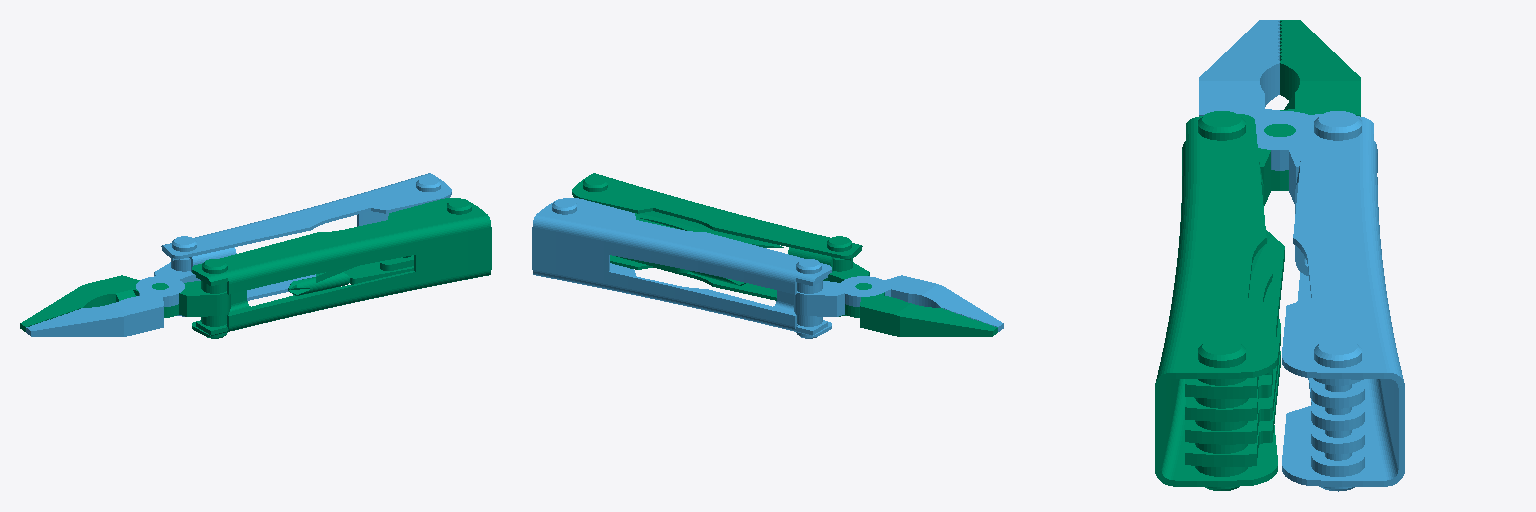
--- What the picture shows (computed from the rendered views, not written in the file) ---
3 views of the same robot in one strip: view 1: azimuth 30°, elevation 25°; view 2: azimuth 150°, elevation 25°; view 3: azimuth 270°, elevation 25° (orthographic).
Robot: partnet_b4ba93fc-5ad1-45ee-9612-3ba4218d1fca — 3 links, 2 joints (1 revolute, 1 fixed); root link base; default pose: every joint at zero.
Visible links, largest first — view 1: link_1, link_0; view 2: link_0, link_1; view 3: link_1, link_0.
Boxes of the visible links, x1,y1,x2,y2 form: link_1: [20, 198, 491, 338]; link_0: [26, 173, 451, 336]; link_0: [532, 198, 1003, 338]; link_1: [572, 173, 997, 336]; link_1: [1155, 20, 1360, 490]; link_0: [1199, 20, 1404, 491].
Size in the robot's own frame: 1.65 by 0.4323 by 0.2603 metres.
86 mesh visuals loaded from 86 distinct referenced files (86 OBJ).

URDF robot description (partnet_b4ba93fc-5ad1-45ee-9612-3ba4218d1fca):
<?xml version="1.0" ?>
<robot name="partnet_b4ba93fc-5ad1-45ee-9612-3ba4218d1fca">
	<link name="base"/>
	<link name="link_0">
		<visual name="leg-1">
			<origin xyz="0 0 -0.5441908323764797"/>
			<geometry>
				<mesh filename="textured_objs/original-3.obj"/>
			</geometry>
		</visual>
		<visual name="leg-1">
			<origin xyz="0 0 -0.5441908323764797"/>
			<geometry>
				<mesh filename="textured_objs/original-41.obj"/>
			</geometry>
		</visual>
		<visual name="leg-1">
			<origin xyz="0 0 -0.5441908323764797"/>
			<geometry>
				<mesh filename="textured_objs/original-46.obj"/>
			</geometry>
		</visual>
		<visual name="leg-1">
			<origin xyz="0 0 -0.5441908323764797"/>
			<geometry>
				<mesh filename="textured_objs/original-13.obj"/>
			</geometry>
		</visual>
		<visual name="leg-1">
			<origin xyz="0 0 -0.5441908323764797"/>
			<geometry>
				<mesh filename="textured_objs/original-15.obj"/>
			</geometry>
		</visual>
		<visual name="leg-1">
			<origin xyz="0 0 -0.5441908323764797"/>
			<geometry>
				<mesh filename="textured_objs/original-10.obj"/>
			</geometry>
		</visual>
		<visual name="leg-1">
			<origin xyz="0 0 -0.5441908323764797"/>
			<geometry>
				<mesh filename="textured_objs/original-48.obj"/>
			</geometry>
		</visual>
		<visual name="leg-1">
			<origin xyz="0 0 -0.5441908323764797"/>
			<geometry>
				<mesh filename="textured_objs/original-20.obj"/>
			</geometry>
		</visual>
		<visual name="leg-1">
			<origin xyz="0 0 -0.5441908323764797"/>
			<geometry>
				<mesh filename="textured_objs/original-29.obj"/>
			</geometry>
		</visual>
		<visual name="leg-1">
			<origin xyz="0 0 -0.5441908323764797"/>
			<geometry>
				<mesh filename="textured_objs/original-23.obj"/>
			</geometry>
		</visual>
		<visual name="leg-1">
			<origin xyz="0 0 -0.5441908323764797"/>
			<geometry>
				<mesh filename="textured_objs/original-32.obj"/>
			</geometry>
		</visual>
		<visual name="leg-1">
			<origin xyz="0 0 -0.5441908323764797"/>
			<geometry>
				<mesh filename="textured_objs/original-26.obj"/>
			</geometry>
		</visual>
		<visual name="leg-1">
			<origin xyz="0 0 -0.5441908323764797"/>
			<geometry>
				<mesh filename="textured_objs/original-35.obj"/>
			</geometry>
		</visual>
		<visual name="leg-1">
			<origin xyz="0 0 -0.5441908323764797"/>
			<geometry>
				<mesh filename="textured_objs/original-37.obj"/>
			</geometry>
		</visual>
		<visual name="leg-1">
			<origin xyz="0 0 -0.5441908323764797"/>
			<geometry>
				<mesh filename="textured_objs/original-33.obj"/>
			</geometry>
		</visual>
		<visual name="leg-1">
			<origin xyz="0 0 -0.5441908323764797"/>
			<geometry>
				<mesh filename="textured_objs/original-27.obj"/>
			</geometry>
		</visual>
		<visual name="leg-1">
			<origin xyz="0 0 -0.5441908323764797"/>
			<geometry>
				<mesh filename="textured_objs/original-5.obj"/>
			</geometry>
		</visual>
		<visual name="leg-1">
			<origin xyz="0 0 -0.5441908323764797"/>
			<geometry>
				<mesh filename="textured_objs/original-36.obj"/>
			</geometry>
		</visual>
		<visual name="leg-1">
			<origin xyz="0 0 -0.5441908323764797"/>
			<geometry>
				<mesh filename="textured_objs/original-30.obj"/>
			</geometry>
		</visual>
		<visual name="leg-1">
			<origin xyz="0 0 -0.5441908323764797"/>
			<geometry>
				<mesh filename="textured_objs/original-24.obj"/>
			</geometry>
		</visual>
		<visual name="leg-1">
			<origin xyz="0 0 -0.5441908323764797"/>
			<geometry>
				<mesh filename="textured_objs/original-21.obj"/>
			</geometry>
		</visual>
		<visual name="leg-1">
			<origin xyz="0 0 -0.5441908323764797"/>
			<geometry>
				<mesh filename="textured_objs/original-4.obj"/>
			</geometry>
		</visual>
		<visual name="leg-1">
			<origin xyz="0 0 -0.5441908323764797"/>
			<geometry>
				<mesh filename="textured_objs/original-7.obj"/>
			</geometry>
		</visual>
		<visual name="leg-1">
			<origin xyz="0 0 -0.5441908323764797"/>
			<geometry>
				<mesh filename="textured_objs/original-12.obj"/>
			</geometry>
		</visual>
		<visual name="leg-1">
			<origin xyz="0 0 -0.5441908323764797"/>
			<geometry>
				<mesh filename="textured_objs/original-17.obj"/>
			</geometry>
		</visual>
		<visual name="leg-1">
			<origin xyz="0 0 -0.5441908323764797"/>
			<geometry>
				<mesh filename="textured_objs/original-9.obj"/>
			</geometry>
		</visual>
		<visual name="leg-1">
			<origin xyz="0 0 -0.5441908323764797"/>
			<geometry>
				<mesh filename="textured_objs/original-44.obj"/>
			</geometry>
		</visual>
		<visual name="leg-1">
			<origin xyz="0 0 -0.5441908323764797"/>
			<geometry>
				<mesh filename="textured_objs/original-43.obj"/>
			</geometry>
		</visual>
		<visual name="leg-1">
			<origin xyz="0 0 -0.5441908323764797"/>
			<geometry>
				<mesh filename="textured_objs/original-6.obj"/>
			</geometry>
		</visual>
		<visual name="leg-1">
			<origin xyz="0 0 -0.5441908323764797"/>
			<geometry>
				<mesh filename="textured_objs/original-16.obj"/>
			</geometry>
		</visual>
		<visual name="leg-1">
			<origin xyz="0 0 -0.5441908323764797"/>
			<geometry>
				<mesh filename="textured_objs/original-47.obj"/>
			</geometry>
		</visual>
		<collision>
			<origin xyz="0 0 -0.5441908323764797"/>
			<geometry>
				<mesh filename="textured_objs/original-3.obj"/>
			</geometry>
		</collision>
		<collision>
			<origin xyz="0 0 -0.5441908323764797"/>
			<geometry>
				<mesh filename="textured_objs/original-41.obj"/>
			</geometry>
		</collision>
		<collision>
			<origin xyz="0 0 -0.5441908323764797"/>
			<geometry>
				<mesh filename="textured_objs/original-46.obj"/>
			</geometry>
		</collision>
		<collision>
			<origin xyz="0 0 -0.5441908323764797"/>
			<geometry>
				<mesh filename="textured_objs/original-13.obj"/>
			</geometry>
		</collision>
		<collision>
			<origin xyz="0 0 -0.5441908323764797"/>
			<geometry>
				<mesh filename="textured_objs/original-15.obj"/>
			</geometry>
		</collision>
		<collision>
			<origin xyz="0 0 -0.5441908323764797"/>
			<geometry>
				<mesh filename="textured_objs/original-10.obj"/>
			</geometry>
		</collision>
		<collision>
			<origin xyz="0 0 -0.5441908323764797"/>
			<geometry>
				<mesh filename="textured_objs/original-48.obj"/>
			</geometry>
		</collision>
		<collision>
			<origin xyz="0 0 -0.5441908323764797"/>
			<geometry>
				<mesh filename="textured_objs/original-20.obj"/>
			</geometry>
		</collision>
		<collision>
			<origin xyz="0 0 -0.5441908323764797"/>
			<geometry>
				<mesh filename="textured_objs/original-29.obj"/>
			</geometry>
		</collision>
		<collision>
			<origin xyz="0 0 -0.5441908323764797"/>
			<geometry>
				<mesh filename="textured_objs/original-23.obj"/>
			</geometry>
		</collision>
		<collision>
			<origin xyz="0 0 -0.5441908323764797"/>
			<geometry>
				<mesh filename="textured_objs/original-32.obj"/>
			</geometry>
		</collision>
		<collision>
			<origin xyz="0 0 -0.5441908323764797"/>
			<geometry>
				<mesh filename="textured_objs/original-26.obj"/>
			</geometry>
		</collision>
		<collision>
			<origin xyz="0 0 -0.5441908323764797"/>
			<geometry>
				<mesh filename="textured_objs/original-35.obj"/>
			</geometry>
		</collision>
		<collision>
			<origin xyz="0 0 -0.5441908323764797"/>
			<geometry>
				<mesh filename="textured_objs/original-37.obj"/>
			</geometry>
		</collision>
		<collision>
			<origin xyz="0 0 -0.5441908323764797"/>
			<geometry>
				<mesh filename="textured_objs/original-33.obj"/>
			</geometry>
		</collision>
		<collision>
			<origin xyz="0 0 -0.5441908323764797"/>
			<geometry>
				<mesh filename="textured_objs/original-27.obj"/>
			</geometry>
		</collision>
		<collision>
			<origin xyz="0 0 -0.5441908323764797"/>
			<geometry>
				<mesh filename="textured_objs/original-5.obj"/>
			</geometry>
		</collision>
		<collision>
			<origin xyz="0 0 -0.5441908323764797"/>
			<geometry>
				<mesh filename="textured_objs/original-36.obj"/>
			</geometry>
		</collision>
		<collision>
			<origin xyz="0 0 -0.5441908323764797"/>
			<geometry>
				<mesh filename="textured_objs/original-30.obj"/>
			</geometry>
		</collision>
		<collision>
			<origin xyz="0 0 -0.5441908323764797"/>
			<geometry>
				<mesh filename="textured_objs/original-24.obj"/>
			</geometry>
		</collision>
		<collision>
			<origin xyz="0 0 -0.5441908323764797"/>
			<geometry>
				<mesh filename="textured_objs/original-21.obj"/>
			</geometry>
		</collision>
		<collision>
			<origin xyz="0 0 -0.5441908323764797"/>
			<geometry>
				<mesh filename="textured_objs/original-4.obj"/>
			</geometry>
		</collision>
		<collision>
			<origin xyz="0 0 -0.5441908323764797"/>
			<geometry>
				<mesh filename="textured_objs/original-7.obj"/>
			</geometry>
		</collision>
		<collision>
			<origin xyz="0 0 -0.5441908323764797"/>
			<geometry>
				<mesh filename="textured_objs/original-12.obj"/>
			</geometry>
		</collision>
		<collision>
			<origin xyz="0 0 -0.5441908323764797"/>
			<geometry>
				<mesh filename="textured_objs/original-17.obj"/>
			</geometry>
		</collision>
		<collision>
			<origin xyz="0 0 -0.5441908323764797"/>
			<geometry>
				<mesh filename="textured_objs/original-9.obj"/>
			</geometry>
		</collision>
		<collision>
			<origin xyz="0 0 -0.5441908323764797"/>
			<geometry>
				<mesh filename="textured_objs/original-44.obj"/>
			</geometry>
		</collision>
		<collision>
			<origin xyz="0 0 -0.5441908323764797"/>
			<geometry>
				<mesh filename="textured_objs/original-43.obj"/>
			</geometry>
		</collision>
		<collision>
			<origin xyz="0 0 -0.5441908323764797"/>
			<geometry>
				<mesh filename="textured_objs/original-6.obj"/>
			</geometry>
		</collision>
		<collision>
			<origin xyz="0 0 -0.5441908323764797"/>
			<geometry>
				<mesh filename="textured_objs/original-16.obj"/>
			</geometry>
		</collision>
		<collision>
			<origin xyz="0 0 -0.5441908323764797"/>
			<geometry>
				<mesh filename="textured_objs/original-47.obj"/>
			</geometry>
		</collision>
	</link>
	<joint name="joint_0" type="revolute">
		<origin xyz="0 0 0.5441908323764797"/>
		<axis xyz="0 1 0"/>
		<child link="link_0"/>
		<parent link="link_1"/>
		<limit lower="0.0" upper="0.9599310885968813"/>
	</joint>
	<link name="link_1">
		<visual name="base_body-2">
			<origin xyz="0 0 0"/>
			<geometry>
				<mesh filename="textured_objs/original-103.obj"/>
			</geometry>
		</visual>
		<visual name="base_body-2">
			<origin xyz="0 0 0"/>
			<geometry>
				<mesh filename="textured_objs/original-100.obj"/>
			</geometry>
		</visual>
		<visual name="base_body-2">
			<origin xyz="0 0 0"/>
			<geometry>
				<mesh filename="textured_objs/original-119.obj"/>
			</geometry>
		</visual>
		<visual name="base_body-2">
			<origin xyz="0 0 0"/>
			<geometry>
				<mesh filename="textured_objs/original-71.obj"/>
			</geometry>
		</visual>
		<visual name="base_body-2">
			<origin xyz="0 0 0"/>
			<geometry>
				<mesh filename="textured_objs/original-52.obj"/>
			</geometry>
		</visual>
		<visual name="base_body-2">
			<origin xyz="0 0 0"/>
			<geometry>
				<mesh filename="textured_objs/original-83.obj"/>
			</geometry>
		</visual>
		<visual name="base_body-2">
			<origin xyz="0 0 0"/>
			<geometry>
				<mesh filename="textured_objs/original-117.obj"/>
			</geometry>
		</visual>
		<visual name="base_body-2">
			<origin xyz="0 0 0"/>
			<geometry>
				<mesh filename="textured_objs/original-110.obj"/>
			</geometry>
		</visual>
		<visual name="base_body-2">
			<origin xyz="0 0 0"/>
			<geometry>
				<mesh filename="textured_objs/original-107.obj"/>
			</geometry>
		</visual>
		<visual name="base_body-2">
			<origin xyz="0 0 0"/>
			<geometry>
				<mesh filename="textured_objs/original-104.obj"/>
			</geometry>
		</visual>
		<visual name="base_body-2">
			<origin xyz="0 0 0"/>
			<geometry>
				<mesh filename="textured_objs/original-65.obj"/>
			</geometry>
		</visual>
		<visual name="base_body-2">
			<origin xyz="0 0 0"/>
			<geometry>
				<mesh filename="textured_objs/original-112.obj"/>
			</geometry>
		</visual>
		<visual name="base_body-2">
			<origin xyz="0 0 0"/>
			<geometry>
				<mesh filename="textured_objs/original-106.obj"/>
			</geometry>
		</visual>
		<visual name="base_body-2">
			<origin xyz="0 0 0"/>
			<geometry>
				<mesh filename="textured_objs/original-86.obj"/>
			</geometry>
		</visual>
		<visual name="base_body-2">
			<origin xyz="0 0 0"/>
			<geometry>
				<mesh filename="textured_objs/original-61.obj"/>
			</geometry>
		</visual>
		<visual name="base_body-2">
			<origin xyz="0 0 0"/>
			<geometry>
				<mesh filename="textured_objs/original-39.obj"/>
			</geometry>
		</visual>
		<visual name="base_body-2">
			<origin xyz="0 0 0"/>
			<geometry>
				<mesh filename="textured_objs/original-59.obj"/>
			</geometry>
		</visual>
		<visual name="base_body-2">
			<origin xyz="0 0 0"/>
			<geometry>
				<mesh filename="textured_objs/original-77.obj"/>
			</geometry>
		</visual>
		<visual name="base_body-2">
			<origin xyz="0 0 0"/>
			<geometry>
				<mesh filename="textured_objs/original-114.obj"/>
			</geometry>
		</visual>
		<visual name="base_body-2">
			<origin xyz="0 0 0"/>
			<geometry>
				<mesh filename="textured_objs/original-54.obj"/>
			</geometry>
		</visual>
		<visual name="base_body-2">
			<origin xyz="0 0 0"/>
			<geometry>
				<mesh filename="textured_objs/original-87.obj"/>
			</geometry>
		</visual>
		<visual name="base_body-2">
			<origin xyz="0 0 0"/>
			<geometry>
				<mesh filename="textured_objs/original-51.obj"/>
			</geometry>
		</visual>
		<visual name="base_body-2">
			<origin xyz="0 0 0"/>
			<geometry>
				<mesh filename="textured_objs/original-55.obj"/>
			</geometry>
		</visual>
		<visual name="base_body-2">
			<origin xyz="0 0 0"/>
			<geometry>
				<mesh filename="textured_objs/original-50.obj"/>
			</geometry>
		</visual>
		<visual name="base_body-2">
			<origin xyz="0 0 0"/>
			<geometry>
				<mesh filename="textured_objs/original-111.obj"/>
			</geometry>
		</visual>
		<visual name="base_body-2">
			<origin xyz="0 0 0"/>
			<geometry>
				<mesh filename="textured_objs/original-76.obj"/>
			</geometry>
		</visual>
		<visual name="base_body-2">
			<origin xyz="0 0 0"/>
			<geometry>
				<mesh filename="textured_objs/original-108.obj"/>
			</geometry>
		</visual>
		<visual name="base_body-2">
			<origin xyz="0 0 0"/>
			<geometry>
				<mesh filename="textured_objs/original-72.obj"/>
			</geometry>
		</visual>
		<visual name="base_body-2">
			<origin xyz="0 0 0"/>
			<geometry>
				<mesh filename="textured_objs/original-62.obj"/>
			</geometry>
		</visual>
		<visual name="base_body-2">
			<origin xyz="0 0 0"/>
			<geometry>
				<mesh filename="textured_objs/original-75.obj"/>
			</geometry>
		</visual>
		<visual name="base_body-2">
			<origin xyz="0 0 0"/>
			<geometry>
				<mesh filename="textured_objs/original-66.obj"/>
			</geometry>
		</visual>
		<visual name="base_body-2">
			<origin xyz="0 0 0"/>
			<geometry>
				<mesh filename="textured_objs/original-58.obj"/>
			</geometry>
		</visual>
		<visual name="base_body-2">
			<origin xyz="0 0 0"/>
			<geometry>
				<mesh filename="textured_objs/original-98.obj"/>
			</geometry>
		</visual>
		<visual name="base_body-2">
			<origin xyz="0 0 0"/>
			<geometry>
				<mesh filename="textured_objs/original-69.obj"/>
			</geometry>
		</visual>
		<visual name="base_body-2">
			<origin xyz="0 0 0"/>
			<geometry>
				<mesh filename="textured_objs/original-68.obj"/>
			</geometry>
		</visual>
		<visual name="base_body-2">
			<origin xyz="0 0 0"/>
			<geometry>
				<mesh filename="textured_objs/original-80.obj"/>
			</geometry>
		</visual>
		<visual name="base_body-2">
			<origin xyz="0 0 0"/>
			<geometry>
				<mesh filename="textured_objs/original-70.obj"/>
			</geometry>
		</visual>
		<visual name="base_body-2">
			<origin xyz="0 0 0"/>
			<geometry>
				<mesh filename="textured_objs/original-74.obj"/>
			</geometry>
		</visual>
		<visual name="base_body-2">
			<origin xyz="0 0 0"/>
			<geometry>
				<mesh filename="textured_objs/original-118.obj"/>
			</geometry>
		</visual>
		<visual name="base_body-2">
			<origin xyz="0 0 0"/>
			<geometry>
				<mesh filename="textured_objs/original-91.obj"/>
			</geometry>
		</visual>
		<visual name="base_body-2">
			<origin xyz="0 0 0"/>
			<geometry>
				<mesh filename="textured_objs/original-73.obj"/>
			</geometry>
		</visual>
		<visual name="base_body-2">
			<origin xyz="0 0 0"/>
			<geometry>
				<mesh filename="textured_objs/original-92.obj"/>
			</geometry>
		</visual>
		<visual name="base_body-2">
			<origin xyz="0 0 0"/>
			<geometry>
				<mesh filename="textured_objs/original-42.obj"/>
			</geometry>
		</visual>
		<visual name="base_body-2">
			<origin xyz="0 0 0"/>
			<geometry>
				<mesh filename="textured_objs/original-79.obj"/>
			</geometry>
		</visual>
		<visual name="base_body-2">
			<origin xyz="0 0 0"/>
			<geometry>
				<mesh filename="textured_objs/original-88.obj"/>
			</geometry>
		</visual>
		<visual name="base_body-2">
			<origin xyz="0 0 0"/>
			<geometry>
				<mesh filename="textured_objs/original-115.obj"/>
			</geometry>
		</visual>
		<visual name="base_body-2">
			<origin xyz="0 0 0"/>
			<geometry>
				<mesh filename="textured_objs/original-95.obj"/>
			</geometry>
		</visual>
		<visual name="base_body-2">
			<origin xyz="0 0 0"/>
			<geometry>
				<mesh filename="textured_objs/original-101.obj"/>
			</geometry>
		</visual>
		<visual name="base_body-2">
			<origin xyz="0 0 0"/>
			<geometry>
				<mesh filename="textured_objs/original-81.obj"/>
			</geometry>
		</visual>
		<visual name="base_body-2">
			<origin xyz="0 0 0"/>
			<geometry>
				<mesh filename="textured_objs/original-84.obj"/>
			</geometry>
		</visual>
		<visual name="base_body-2">
			<origin xyz="0 0 0"/>
			<geometry>
				<mesh filename="textured_objs/original-94.obj"/>
			</geometry>
		</visual>
		<visual name="base_body-2">
			<origin xyz="0 0 0"/>
			<geometry>
				<mesh filename="textured_objs/original-78.obj"/>
			</geometry>
		</visual>
		<visual name="base_body-2">
			<origin xyz="0 0 0"/>
			<geometry>
				<mesh filename="textured_objs/original-97.obj"/>
			</geometry>
		</visual>
		<visual name="base_body-2">
			<origin xyz="0 0 0"/>
			<geometry>
				<mesh filename="textured_objs/original-82.obj"/>
			</geometry>
		</visual>
		<visual name="base_body-2">
			<origin xyz="0 0 0"/>
			<geometry>
				<mesh filename="textured_objs/original-57.obj"/>
			</geometry>
		</visual>
		<collision>
			<origin xyz="0 0 0"/>
			<geometry>
				<mesh filename="textured_objs/original-103.obj"/>
			</geometry>
		</collision>
		<collision>
			<origin xyz="0 0 0"/>
			<geometry>
				<mesh filename="textured_objs/original-100.obj"/>
			</geometry>
		</collision>
		<collision>
			<origin xyz="0 0 0"/>
			<geometry>
				<mesh filename="textured_objs/original-119.obj"/>
			</geometry>
		</collision>
		<collision>
			<origin xyz="0 0 0"/>
			<geometry>
				<mesh filename="textured_objs/original-71.obj"/>
			</geometry>
		</collision>
		<collision>
			<origin xyz="0 0 0"/>
			<geometry>
				<mesh filename="textured_objs/original-52.obj"/>
			</geometry>
		</collision>
		<collision>
			<origin xyz="0 0 0"/>
			<geometry>
				<mesh filename="textured_objs/original-83.obj"/>
			</geometry>
		</collision>
		<collision>
			<origin xyz="0 0 0"/>
			<geometry>
				<mesh filename="textured_objs/original-117.obj"/>
			</geometry>
		</collision>
		<collision>
			<origin xyz="0 0 0"/>
			<geometry>
				<mesh filename="textured_objs/original-110.obj"/>
			</geometry>
		</collision>
		<collision>
			<origin xyz="0 0 0"/>
			<geometry>
				<mesh filename="textured_objs/original-107.obj"/>
			</geometry>
		</collision>
		<collision>
			<origin xyz="0 0 0"/>
			<geometry>
				<mesh filename="textured_objs/original-104.obj"/>
			</geometry>
		</collision>
		<collision>
			<origin xyz="0 0 0"/>
			<geometry>
				<mesh filename="textured_objs/original-65.obj"/>
			</geometry>
		</collision>
		<collision>
			<origin xyz="0 0 0"/>
			<geometry>
				<mesh filename="textured_objs/original-112.obj"/>
			</geometry>
		</collision>
		<collision>
			<origin xyz="0 0 0"/>
			<geometry>
				<mesh filename="textured_objs/original-106.obj"/>
			</geometry>
		</collision>
		<collision>
			<origin xyz="0 0 0"/>
			<geometry>
				<mesh filename="textured_objs/original-86.obj"/>
			</geometry>
		</collision>
		<collision>
			<origin xyz="0 0 0"/>
			<geometry>
				<mesh filename="textured_objs/original-61.obj"/>
			</geometry>
		</collision>
		<collision>
			<origin xyz="0 0 0"/>
			<geometry>
				<mesh filename="textured_objs/original-39.obj"/>
			</geometry>
		</collision>
		<collision>
			<origin xyz="0 0 0"/>
			<geometry>
				<mesh filename="textured_objs/original-59.obj"/>
			</geometry>
		</collision>
		<collision>
			<origin xyz="0 0 0"/>
			<geometry>
				<mesh filename="textured_objs/original-77.obj"/>
			</geometry>
		</collision>
		<collision>
			<origin xyz="0 0 0"/>
			<geometry>
				<mesh filename="textured_objs/original-114.obj"/>
			</geometry>
		</collision>
		<collision>
			<origin xyz="0 0 0"/>
			<geometry>
				<mesh filename="textured_objs/original-54.obj"/>
			</geometry>
		</collision>
		<collision>
			<origin xyz="0 0 0"/>
			<geometry>
				<mesh filename="textured_objs/original-87.obj"/>
			</geometry>
		</collision>
		<collision>
			<origin xyz="0 0 0"/>
			<geometry>
				<mesh filename="textured_objs/original-51.obj"/>
			</geometry>
		</collision>
		<collision>
			<origin xyz="0 0 0"/>
			<geometry>
				<mesh filename="textured_objs/original-55.obj"/>
			</geometry>
		</collision>
		<collision>
			<origin xyz="0 0 0"/>
			<geometry>
				<mesh filename="textured_objs/original-50.obj"/>
			</geometry>
		</collision>
		<collision>
			<origin xyz="0 0 0"/>
			<geometry>
				<mesh filename="textured_objs/original-111.obj"/>
			</geometry>
		</collision>
		<collision>
			<origin xyz="0 0 0"/>
			<geometry>
				<mesh filename="textured_objs/original-76.obj"/>
			</geometry>
		</collision>
		<collision>
			<origin xyz="0 0 0"/>
			<geometry>
				<mesh filename="textured_objs/original-108.obj"/>
			</geometry>
		</collision>
		<collision>
			<origin xyz="0 0 0"/>
			<geometry>
				<mesh filename="textured_objs/original-72.obj"/>
			</geometry>
		</collision>
		<collision>
			<origin xyz="0 0 0"/>
			<geometry>
				<mesh filename="textured_objs/original-62.obj"/>
			</geometry>
		</collision>
		<collision>
			<origin xyz="0 0 0"/>
			<geometry>
				<mesh filename="textured_objs/original-75.obj"/>
			</geometry>
		</collision>
		<collision>
			<origin xyz="0 0 0"/>
			<geometry>
				<mesh filename="textured_objs/original-66.obj"/>
			</geometry>
		</collision>
		<collision>
			<origin xyz="0 0 0"/>
			<geometry>
				<mesh filename="textured_objs/original-58.obj"/>
			</geometry>
		</collision>
		<collision>
			<origin xyz="0 0 0"/>
			<geometry>
				<mesh filename="textured_objs/original-98.obj"/>
			</geometry>
		</collision>
		<collision>
			<origin xyz="0 0 0"/>
			<geometry>
				<mesh filename="textured_objs/original-69.obj"/>
			</geometry>
		</collision>
		<collision>
			<origin xyz="0 0 0"/>
			<geometry>
				<mesh filename="textured_objs/original-68.obj"/>
			</geometry>
		</collision>
		<collision>
			<origin xyz="0 0 0"/>
			<geometry>
				<mesh filename="textured_objs/original-80.obj"/>
			</geometry>
		</collision>
		<collision>
			<origin xyz="0 0 0"/>
			<geometry>
				<mesh filename="textured_objs/original-70.obj"/>
			</geometry>
		</collision>
		<collision>
			<origin xyz="0 0 0"/>
			<geometry>
				<mesh filename="textured_objs/original-74.obj"/>
			</geometry>
		</collision>
		<collision>
			<origin xyz="0 0 0"/>
			<geometry>
				<mesh filename="textured_objs/original-118.obj"/>
			</geometry>
		</collision>
		<collision>
			<origin xyz="0 0 0"/>
			<geometry>
				<mesh filename="textured_objs/original-91.obj"/>
			</geometry>
		</collision>
		<collision>
			<origin xyz="0 0 0"/>
			<geometry>
				<mesh filename="textured_objs/original-73.obj"/>
			</geometry>
		</collision>
		<collision>
			<origin xyz="0 0 0"/>
			<geometry>
				<mesh filename="textured_objs/original-92.obj"/>
			</geometry>
		</collision>
		<collision>
			<origin xyz="0 0 0"/>
			<geometry>
				<mesh filename="textured_objs/original-42.obj"/>
			</geometry>
		</collision>
		<collision>
			<origin xyz="0 0 0"/>
			<geometry>
				<mesh filename="textured_objs/original-79.obj"/>
			</geometry>
		</collision>
		<collision>
			<origin xyz="0 0 0"/>
			<geometry>
				<mesh filename="textured_objs/original-88.obj"/>
			</geometry>
		</collision>
		<collision>
			<origin xyz="0 0 0"/>
			<geometry>
				<mesh filename="textured_objs/original-115.obj"/>
			</geometry>
		</collision>
		<collision>
			<origin xyz="0 0 0"/>
			<geometry>
				<mesh filename="textured_objs/original-95.obj"/>
			</geometry>
		</collision>
		<collision>
			<origin xyz="0 0 0"/>
			<geometry>
				<mesh filename="textured_objs/original-101.obj"/>
			</geometry>
		</collision>
		<collision>
			<origin xyz="0 0 0"/>
			<geometry>
				<mesh filename="textured_objs/original-81.obj"/>
			</geometry>
		</collision>
		<collision>
			<origin xyz="0 0 0"/>
			<geometry>
				<mesh filename="textured_objs/original-84.obj"/>
			</geometry>
		</collision>
		<collision>
			<origin xyz="0 0 0"/>
			<geometry>
				<mesh filename="textured_objs/original-94.obj"/>
			</geometry>
		</collision>
		<collision>
			<origin xyz="0 0 0"/>
			<geometry>
				<mesh filename="textured_objs/original-78.obj"/>
			</geometry>
		</collision>
		<collision>
			<origin xyz="0 0 0"/>
			<geometry>
				<mesh filename="textured_objs/original-97.obj"/>
			</geometry>
		</collision>
		<collision>
			<origin xyz="0 0 0"/>
			<geometry>
				<mesh filename="textured_objs/original-82.obj"/>
			</geometry>
		</collision>
		<collision>
			<origin xyz="0 0 0"/>
			<geometry>
				<mesh filename="textured_objs/original-57.obj"/>
			</geometry>
		</collision>
	</link>
	<joint name="joint_1" type="fixed">
		<origin rpy="1.570796326794897 0 -1.570796326794897" xyz="0 0 0"/>
		<child link="link_1"/>
		<parent link="base"/>
	</joint>
</robot>
